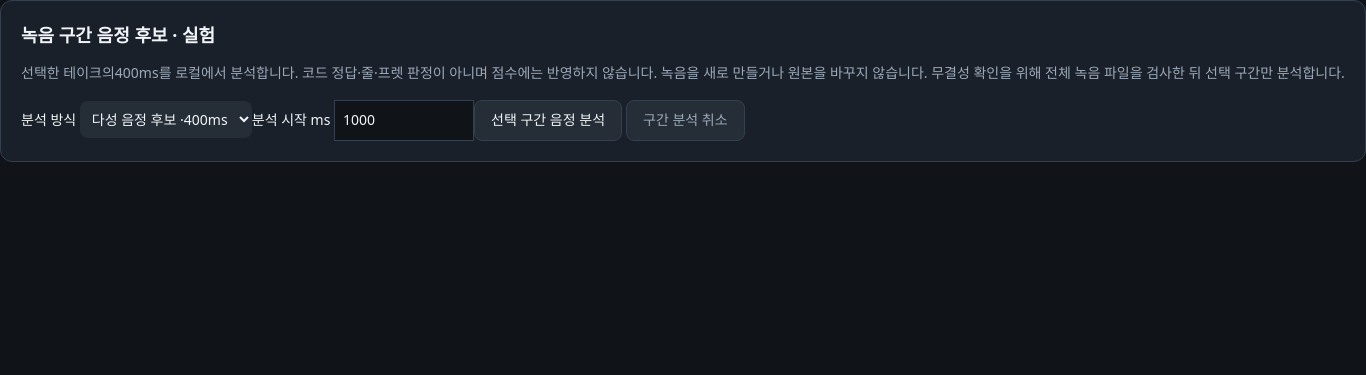
Test: 단음 변화 선택은 자동 분석 없이 명시적으로 실행하고 전환 시 이전 결과를 지운다
Select "단음 음정 변화 ·1초" in the dropdown labelled "분석 방식". click: (166, 120)
box: [80,101,252,138]
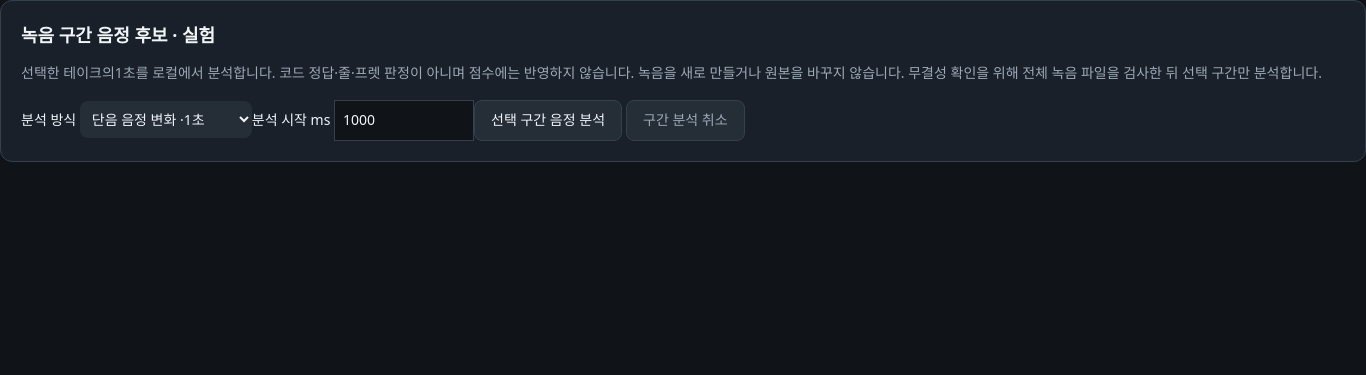
Click the button "선택 구간 음정 분석". click: (548, 120)
box: [474,100,622,141]
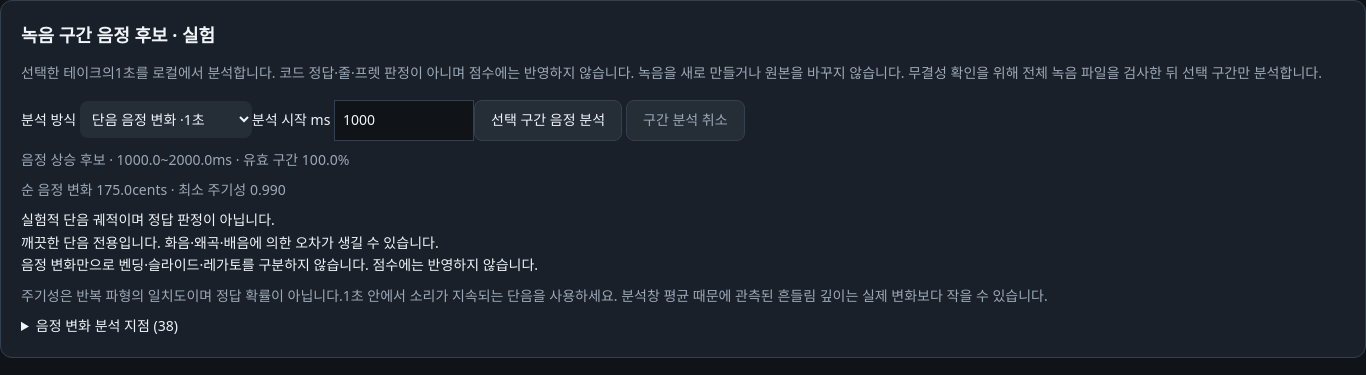
Expected: the text "음정 상승 후보 · 1000.0~2000.0ms · 유효 구간 100.0%" is shown, [21,150,349,169]
Expected: the text "순 음정 변화 175.0cents · 최소 주기성 0.990" is shown, [21,180,286,199]
Expected: the list item "음정 변화만으로 벤딩·슬라이드·레가토를 구분하지 않습니다. 점수에는 반영하지 않습니다." is shown, [21,255,538,274]
Select "다성 음정 후보 ·400ms" in the dropdown labelled "분석 방식". click: (166, 120)
box: [80,101,252,138]
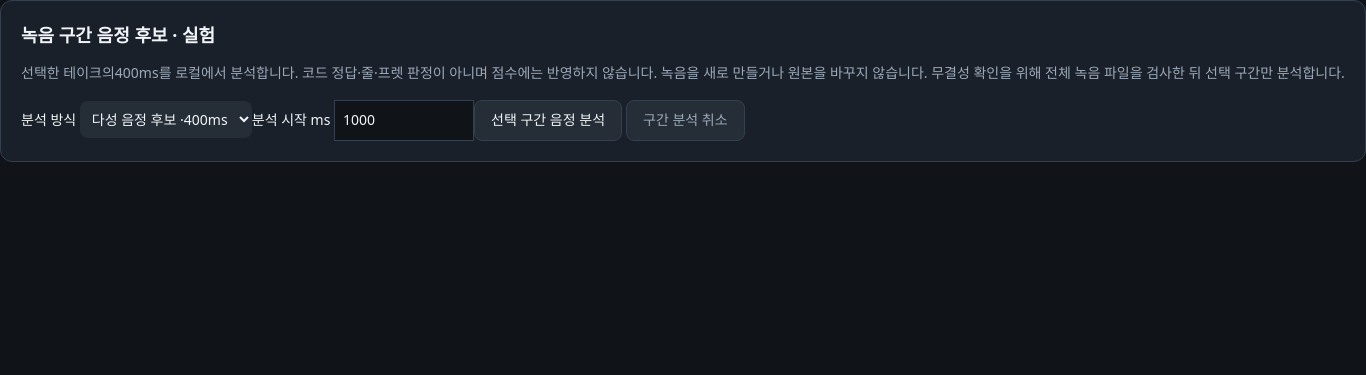
Expected: the text "음정 상승 후보" is gone
